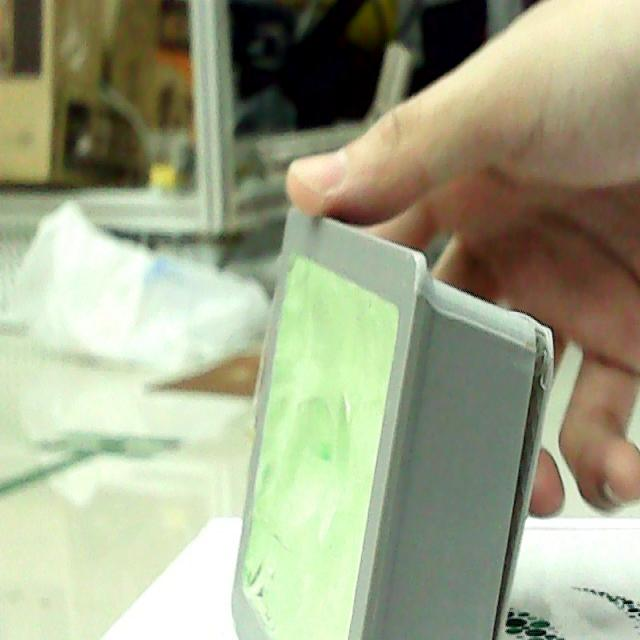block: (233, 205, 552, 640)
